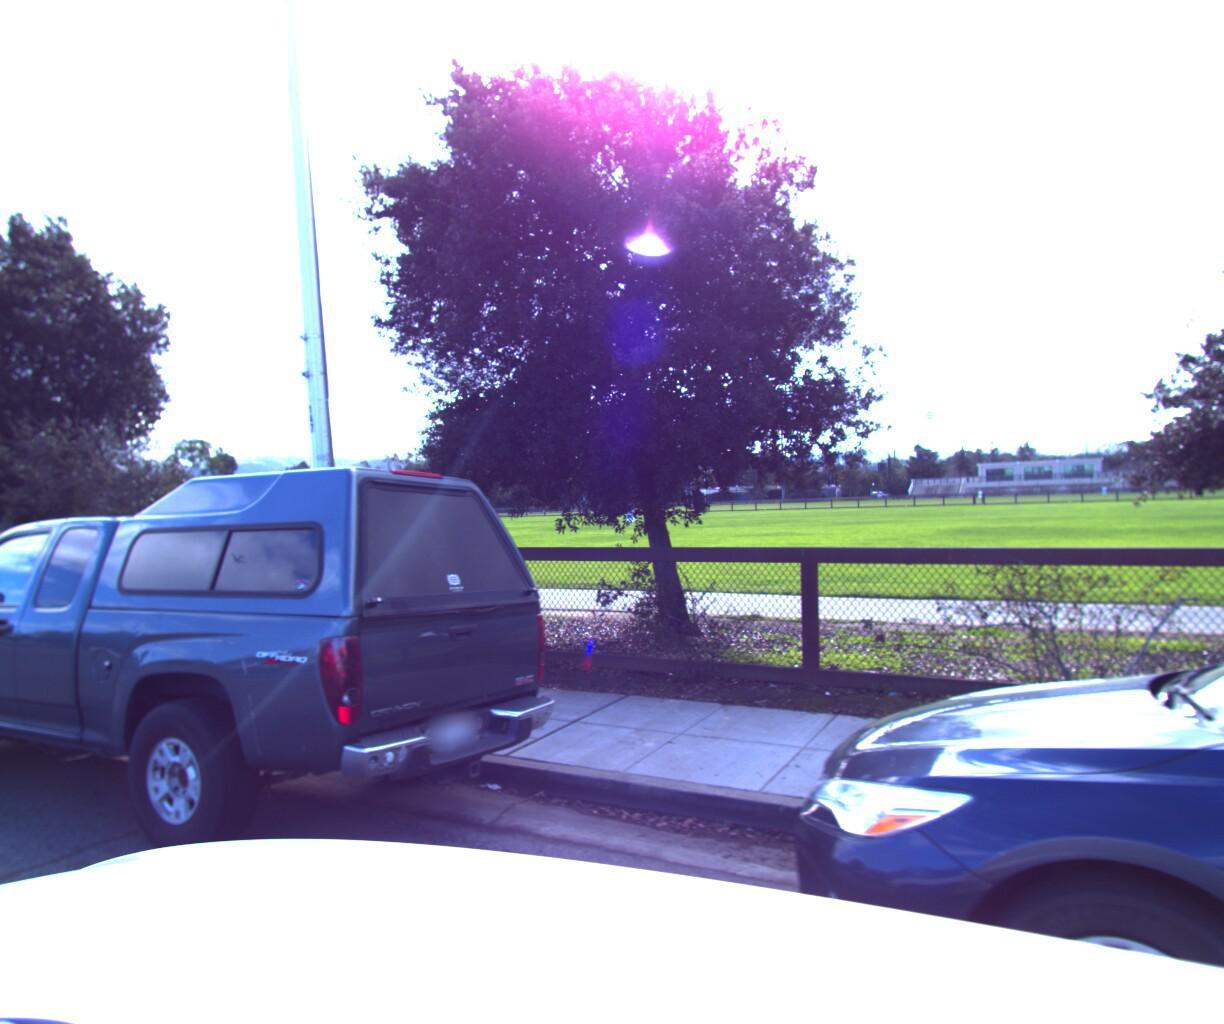car: (711, 482, 1224, 1024), (0, 447, 576, 929)
